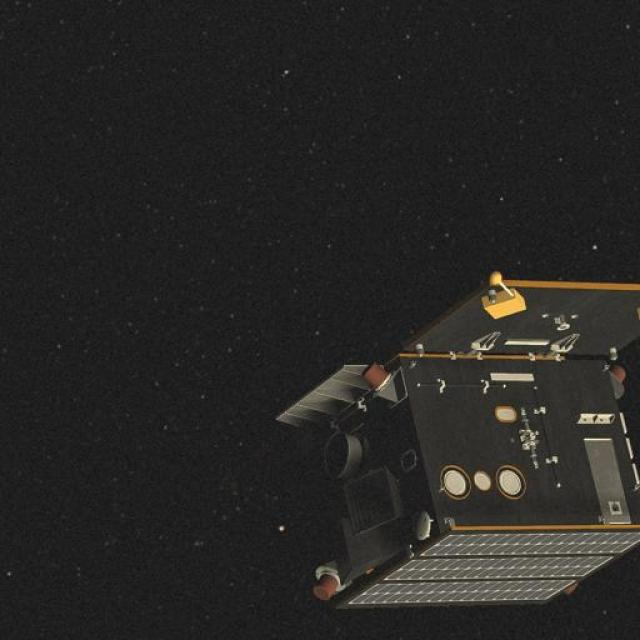proba_2: (261, 297, 640, 638)
